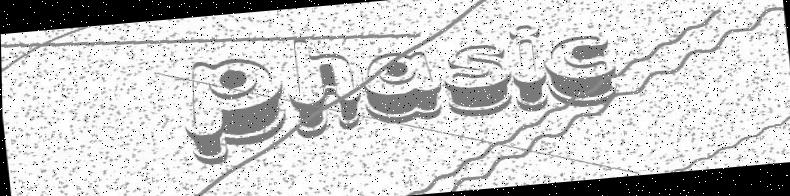a: (358, 48, 447, 128)
c: (543, 32, 619, 110)
h: (283, 33, 365, 141)
i: (507, 22, 551, 115)
p: (178, 53, 293, 168)
s: (440, 41, 515, 120)
